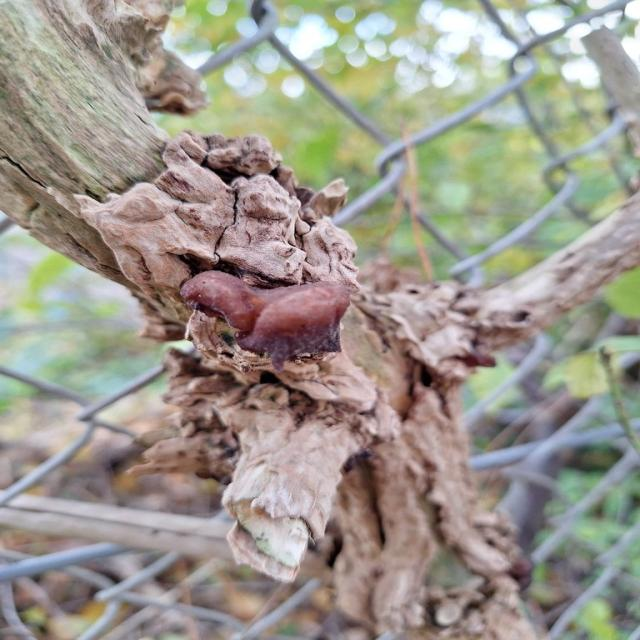Matang: (180, 265, 372, 358)
